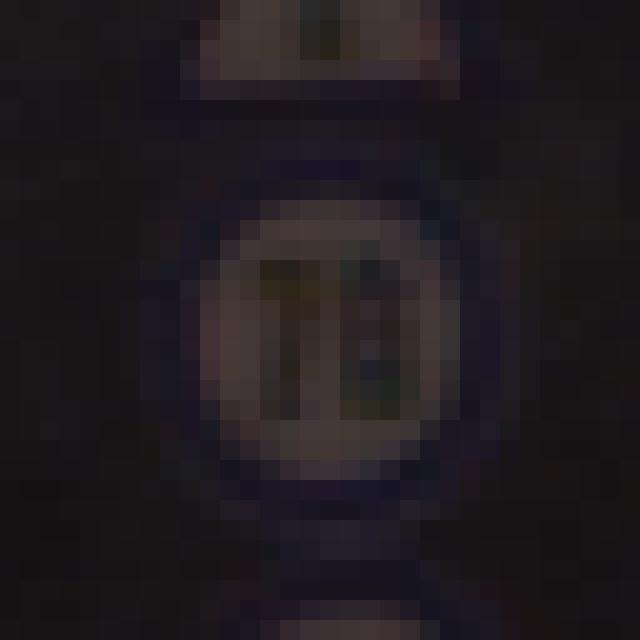SPEED LIMIT 70: (185, 179, 528, 503)
